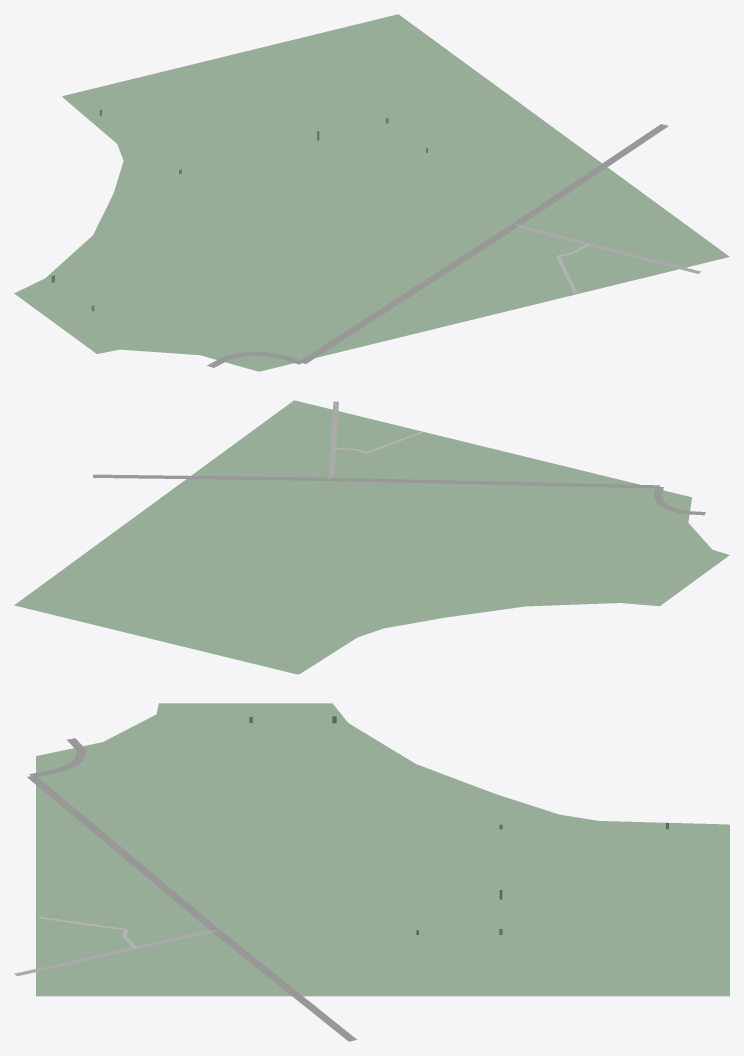
The picture shows the model from 3 angles, top to bottom: view 1: azimuth 30°, elevation 25°; view 2: azimuth 150°, elevation 25°; view 3: azimuth 270°, elevation 25°; orthographic projection. The views are drawn at different scales.
Size of the model in its own units: 577 by 8.44 by 516.
